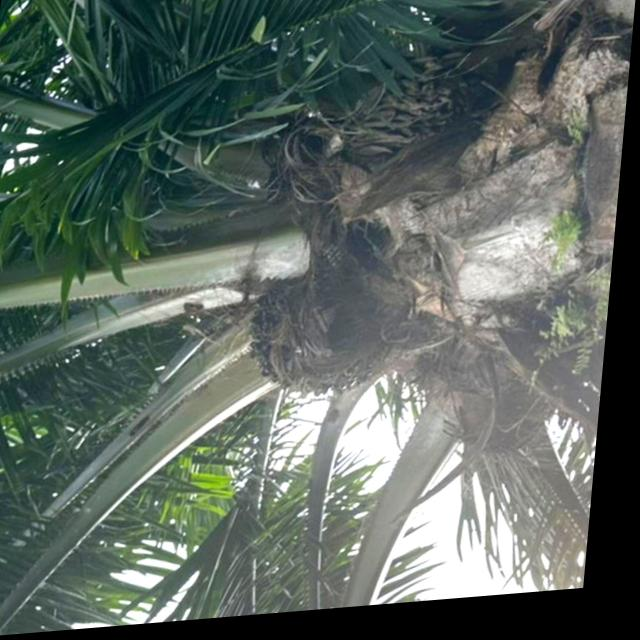unripe: (233, 260, 407, 417)
